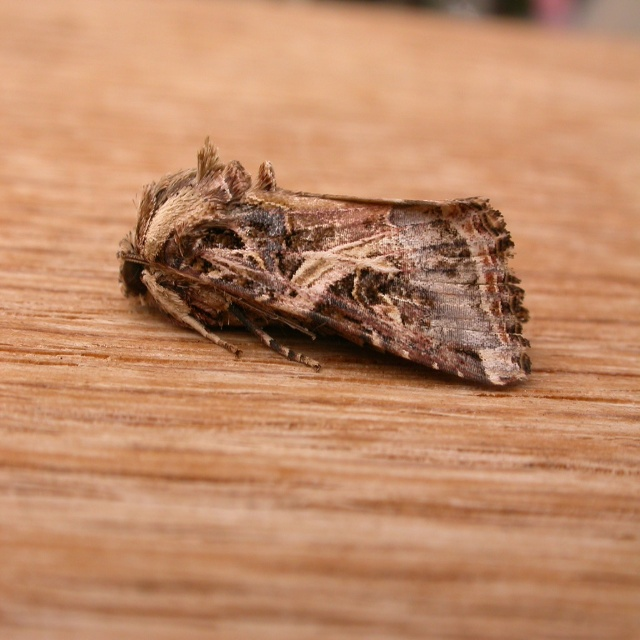Moths and butterflies: (112, 134, 532, 382)
